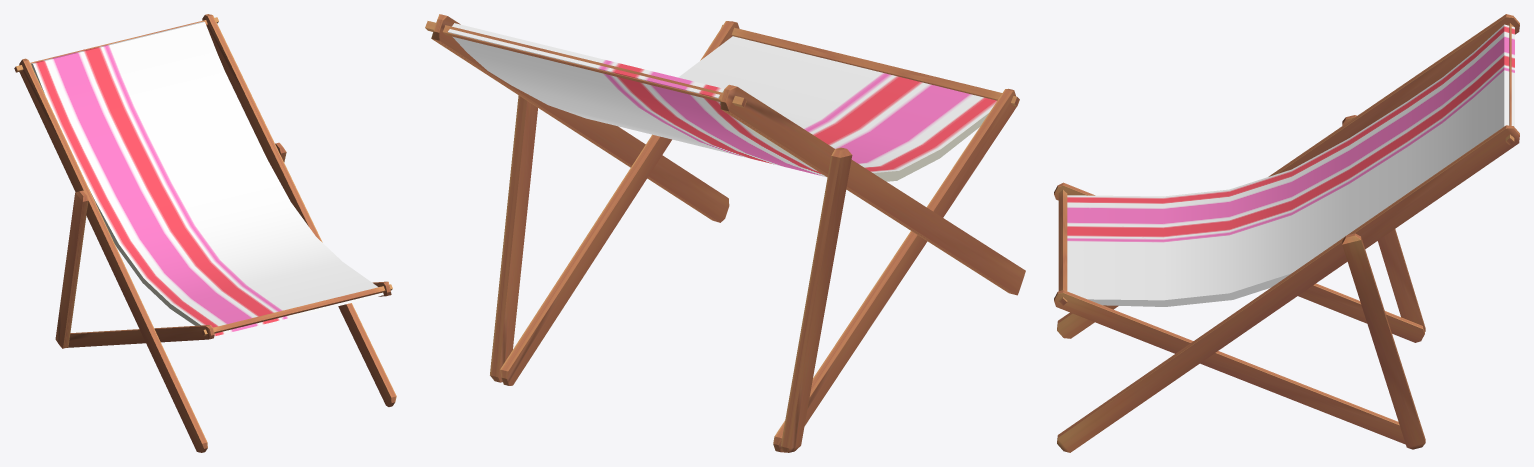
Rendered from lounge-chair-1f.fbx.
3 views of the same model, side by side, from view 1: azimuth 30°, elevation 25°; view 2: azimuth 150°, elevation 25°; view 3: azimuth 270°, elevation 25° (orthographic). The views are drawn at different scales.
Visible parts, largest first — view 1: pCube13; view 2: pCube13; view 3: pCube13.
Part boxes in pixels (left/top/right/bottom): pCube13: left=14, top=14, right=396, bottom=452; pCube13: left=425, top=14, right=1025, bottom=452; pCube13: left=1054, top=14, right=1519, bottom=452.
Size of the model in its own units: 95.3 by 117 by 152.
1 material, 1 textured.
